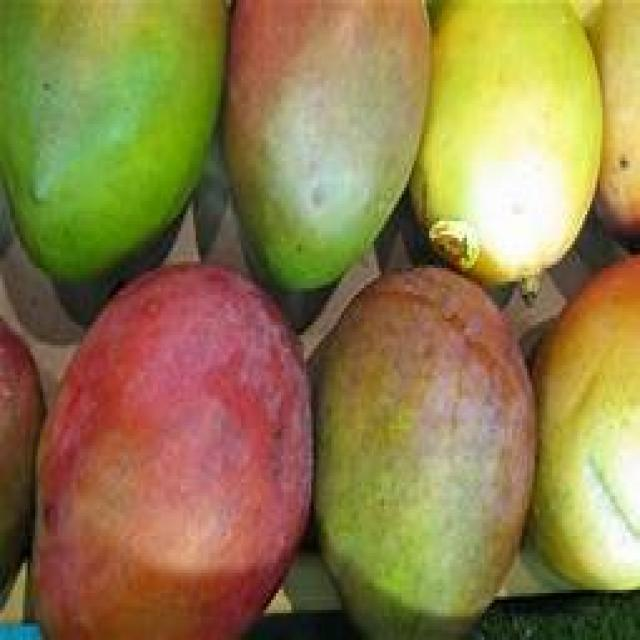Mango: (30, 285, 314, 640), (314, 281, 537, 640), (1, 0, 226, 294), (226, 0, 432, 295), (432, 0, 604, 280)
